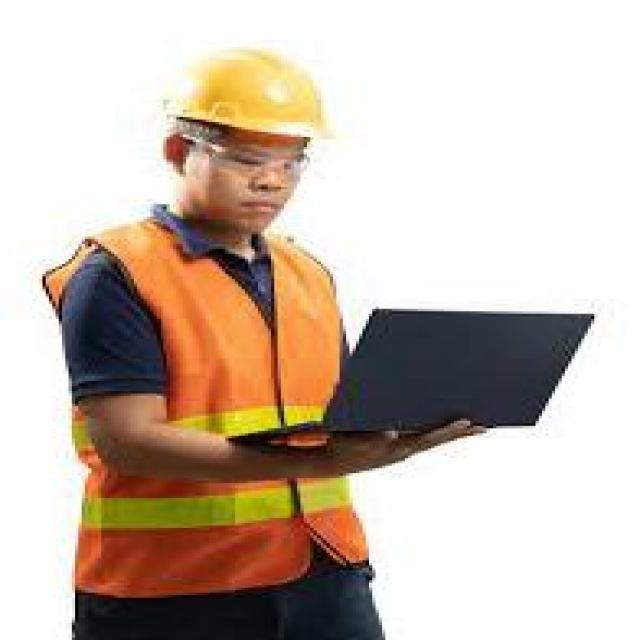Reflective-Jacket: (55, 217, 379, 600)
Safety-Helmet: (150, 35, 350, 152)
